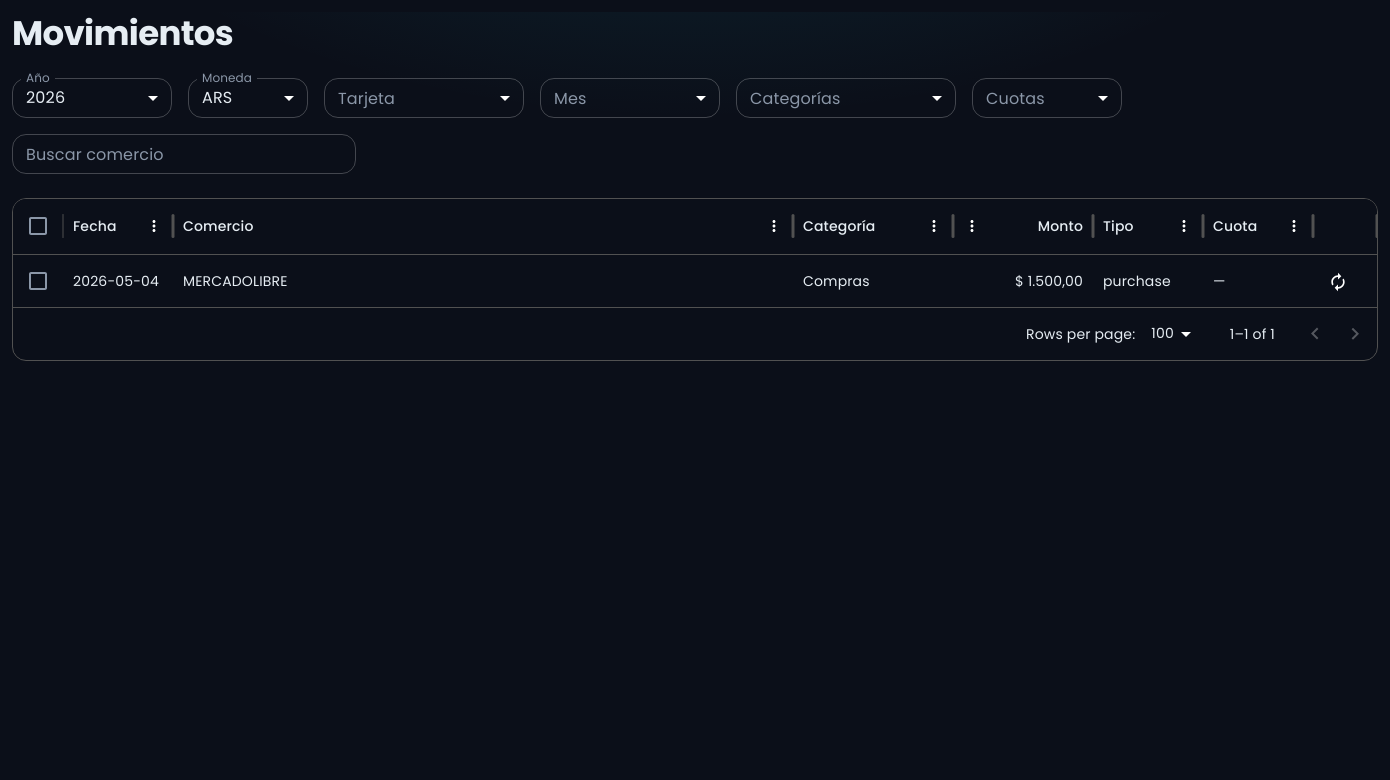
Scenario: TransactionsPage › marcar un consumo como suscripción manda el POST con el movimiento y avisa
Click the button named "Marcar MERCADOLIBRE como suscripción" at [1338, 282], box [1323,267,1353,297]
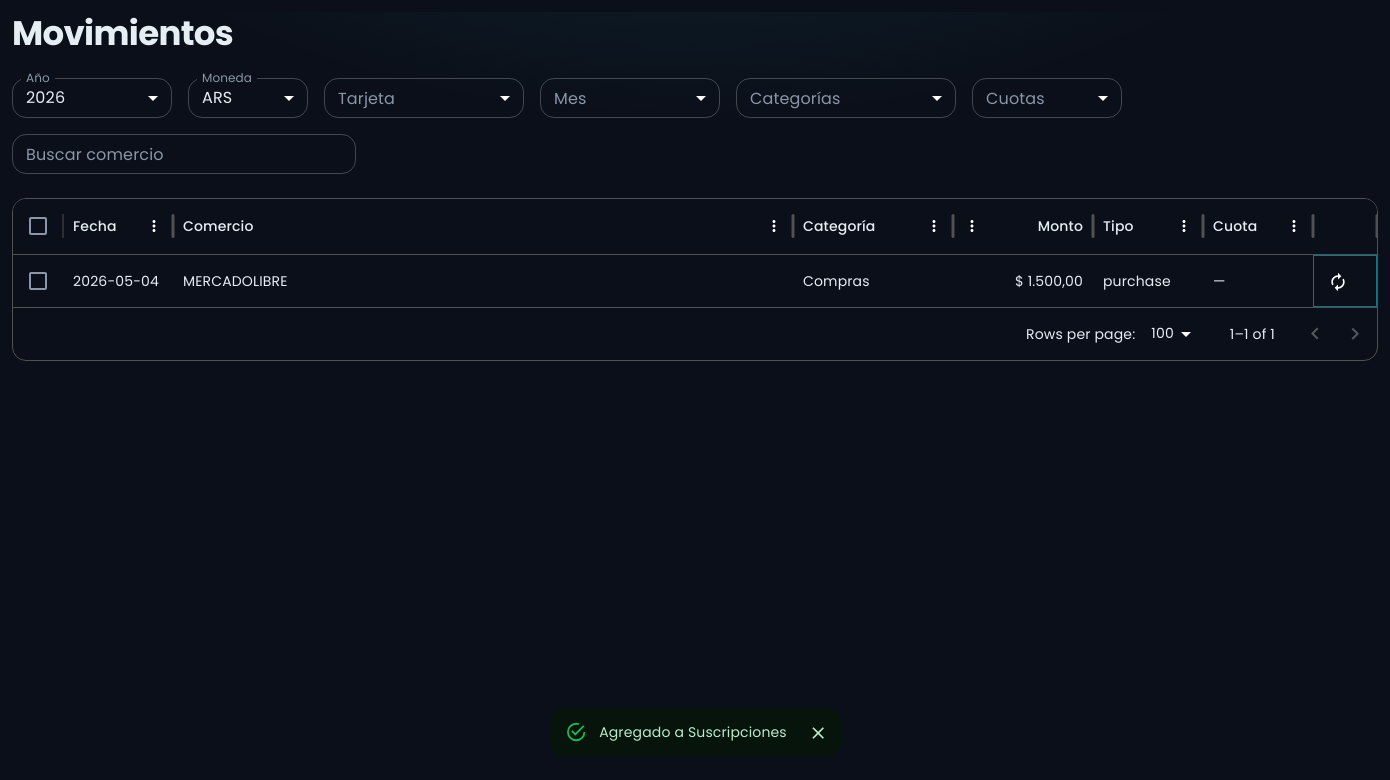
Result: the text "Agregado a Suscripciones" is shown at [599,722,787,742]
